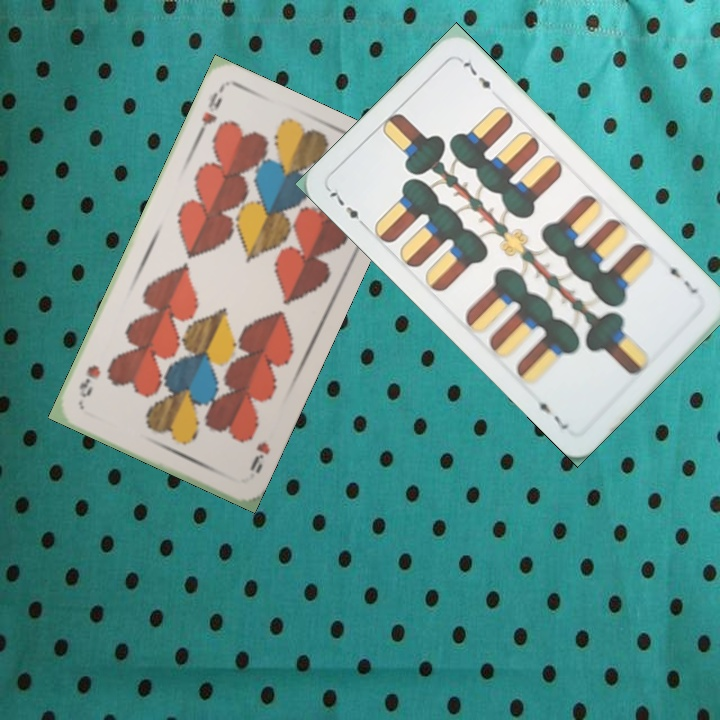E7: (326, 184, 370, 231), (663, 257, 701, 297)
H9: (193, 84, 226, 140), (245, 438, 273, 476)
